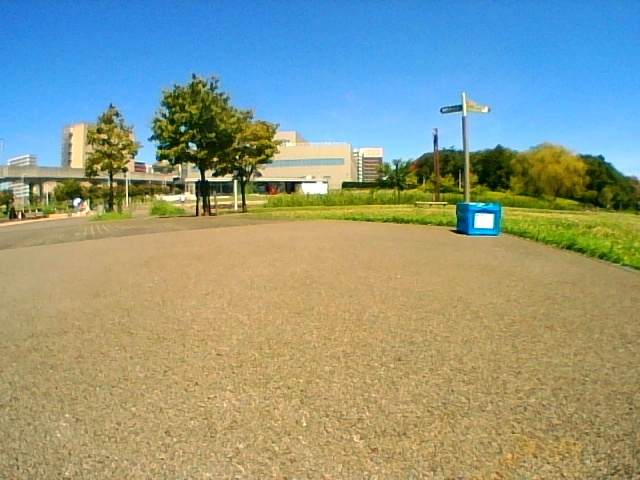blue_box: (458, 203, 500, 235)
tag: (475, 214, 494, 228)
